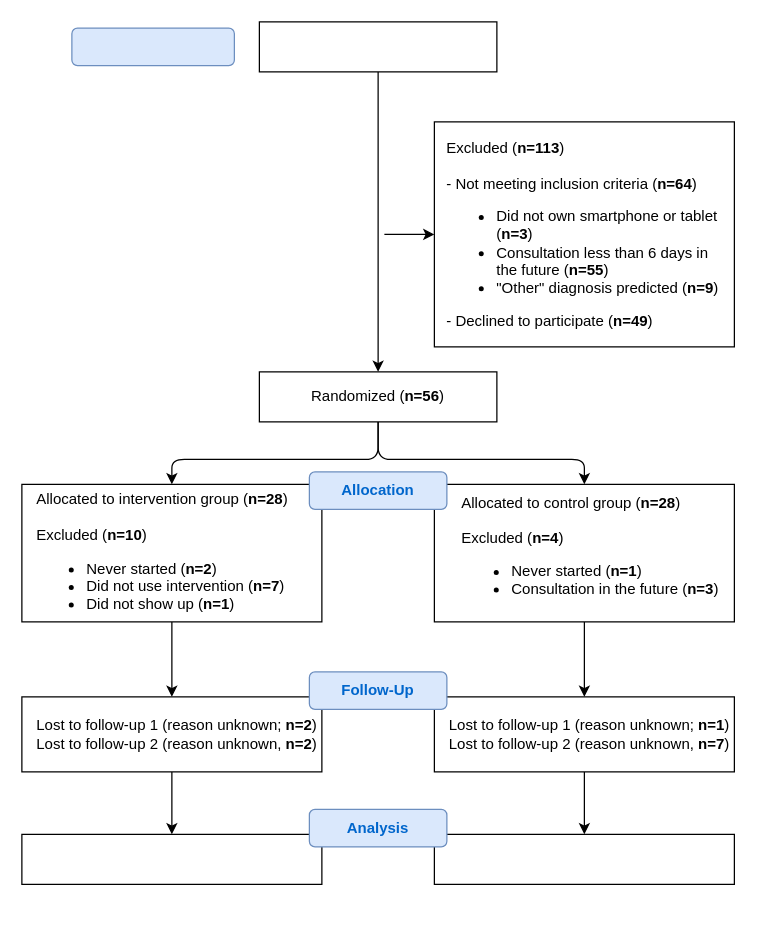
The diagram is 781 pixels wide and 944 high, and some of its shapes have lost their labels. The shapes that lost their labels are listed below. From the top down, each one's centre as x and y in pixels, then its label:
point (152, 46): Enrollment
point (377, 46): Assessed for eligibility ( n=169 )
point (171, 858): Analysed ( n=14 )
point (583, 858): Analysed ( n=16 )
